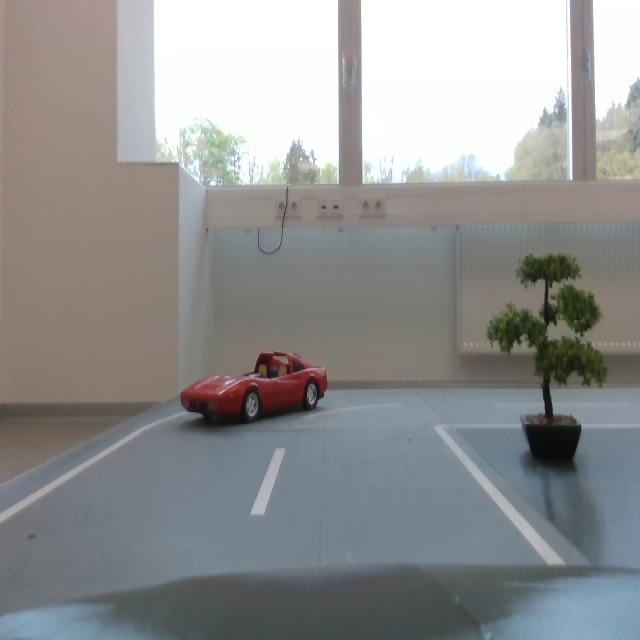car: (175, 346, 333, 431)
potted plant: (485, 253, 612, 416)
